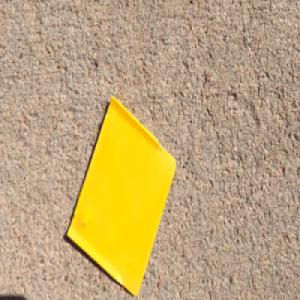PlasticPart: (62, 91, 174, 297)
